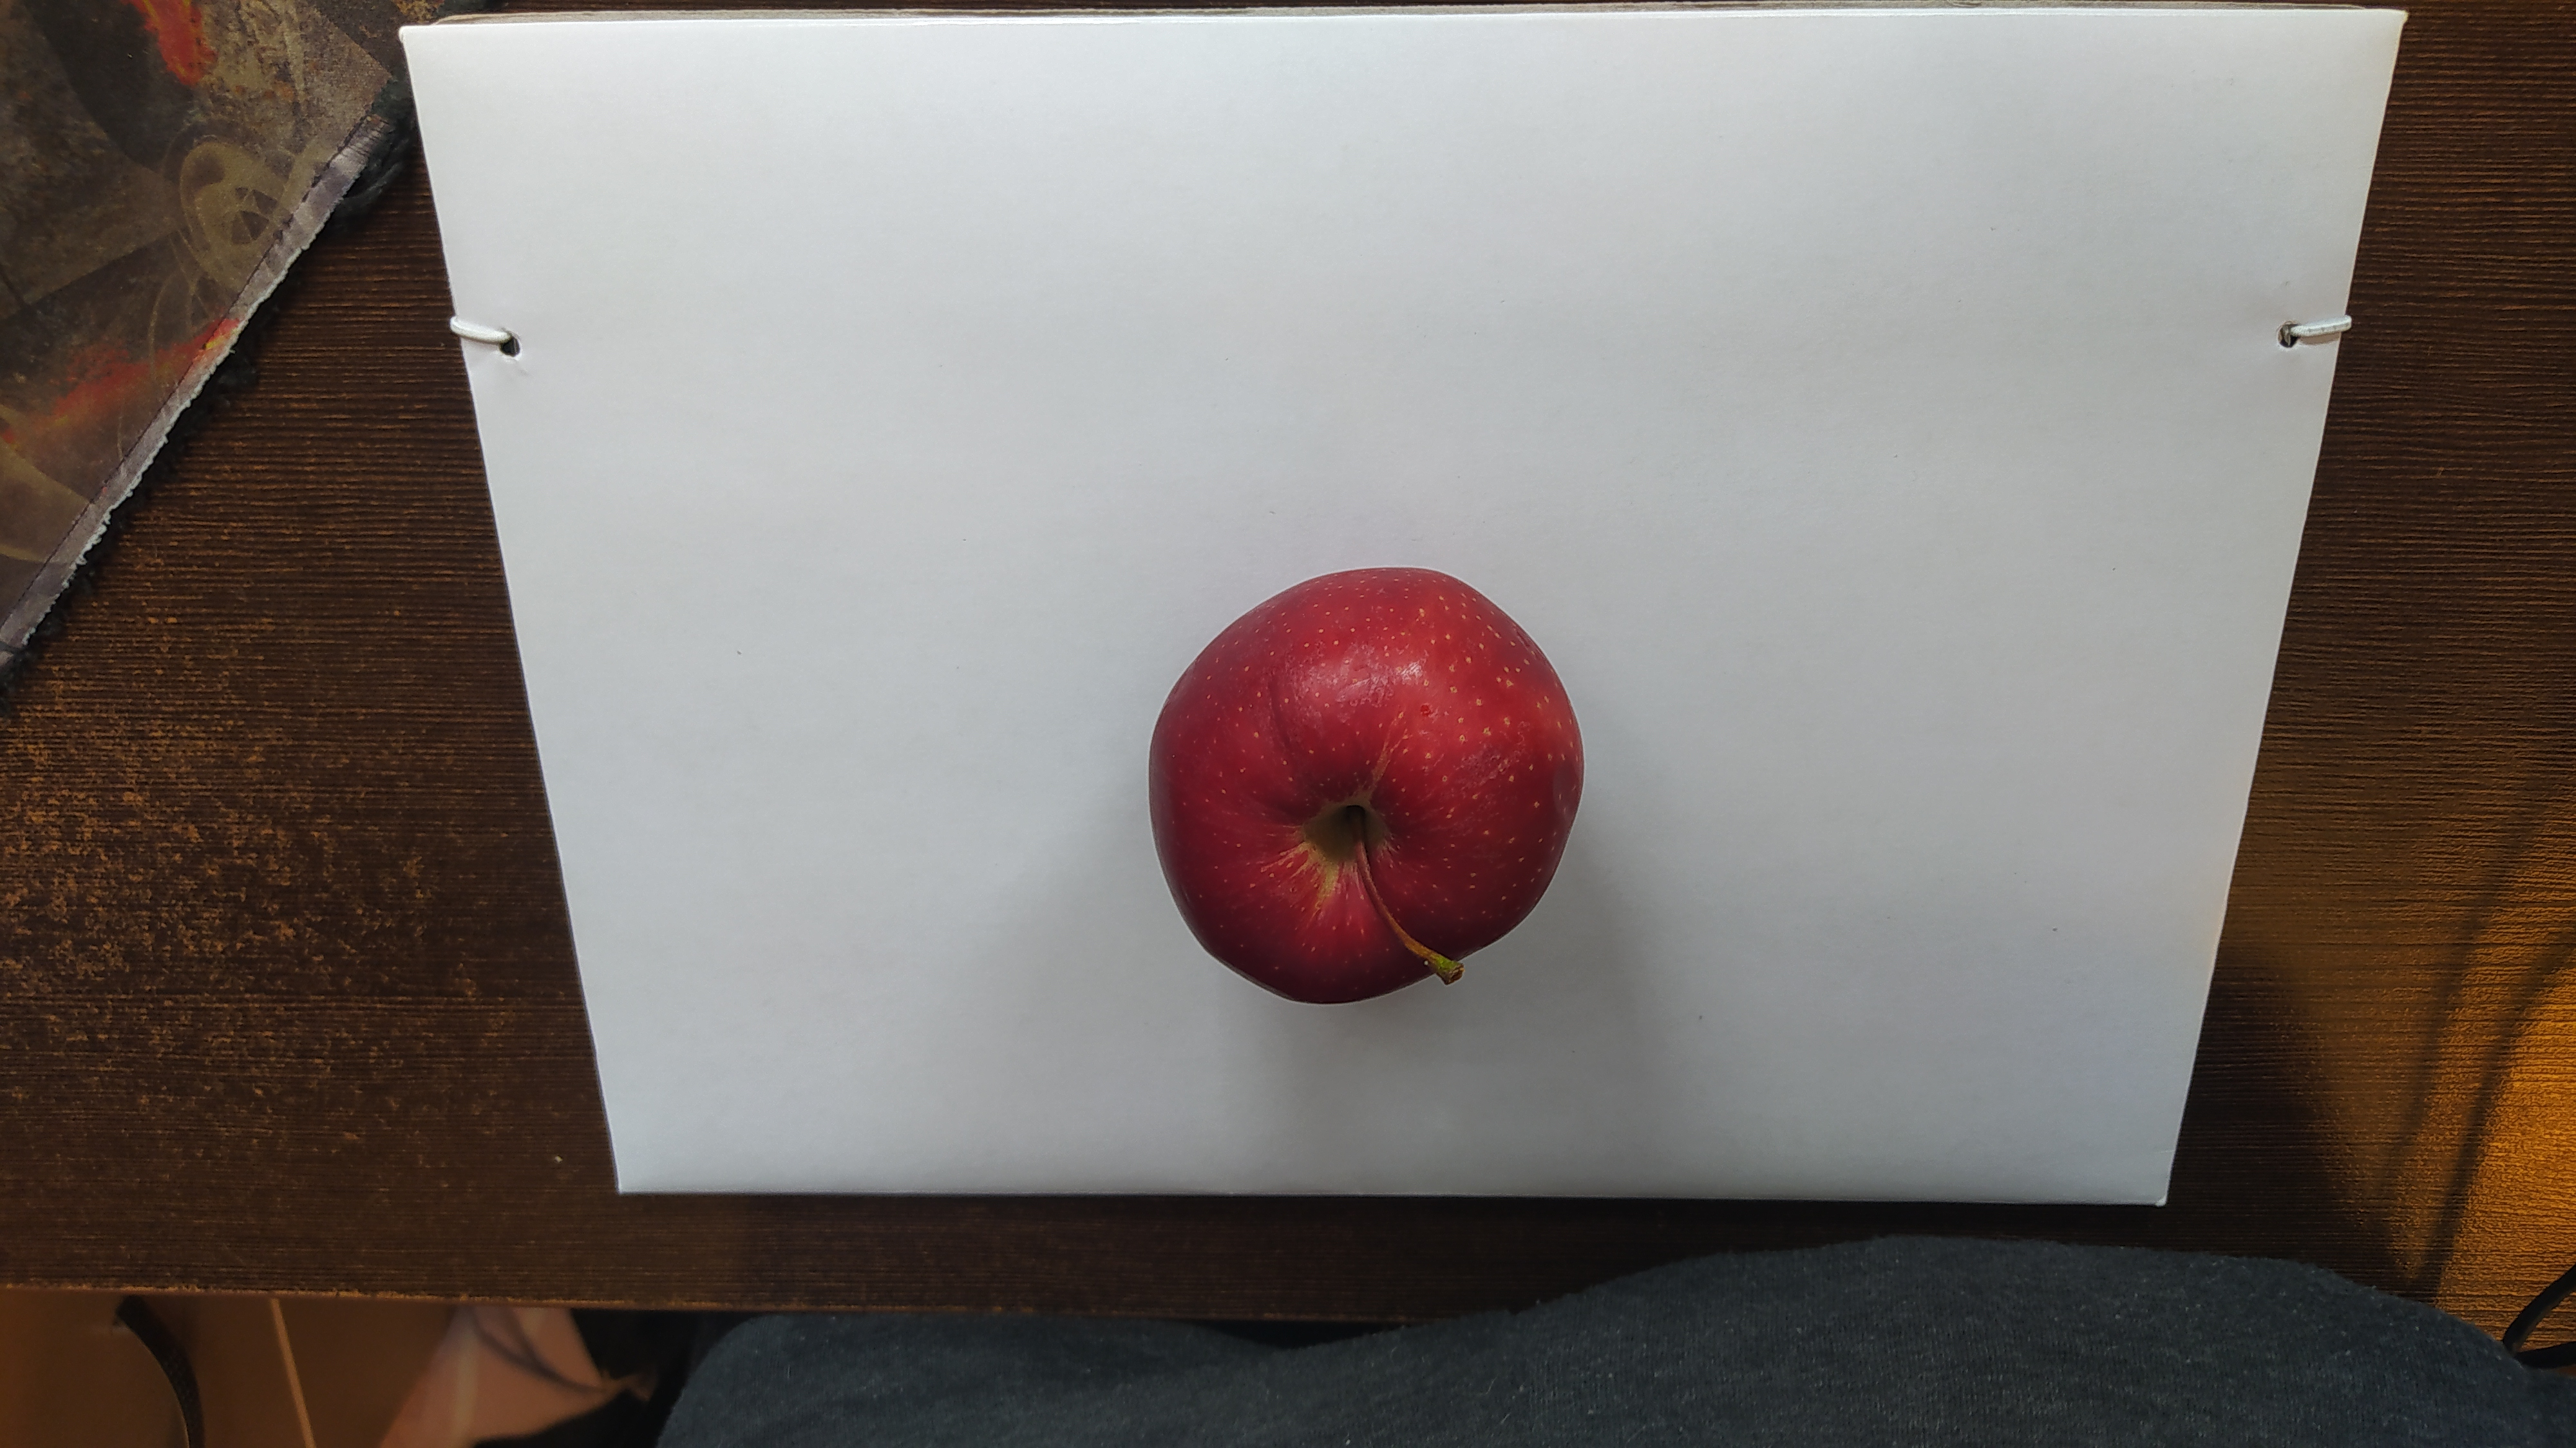apple: (1146, 565, 1589, 1005)
